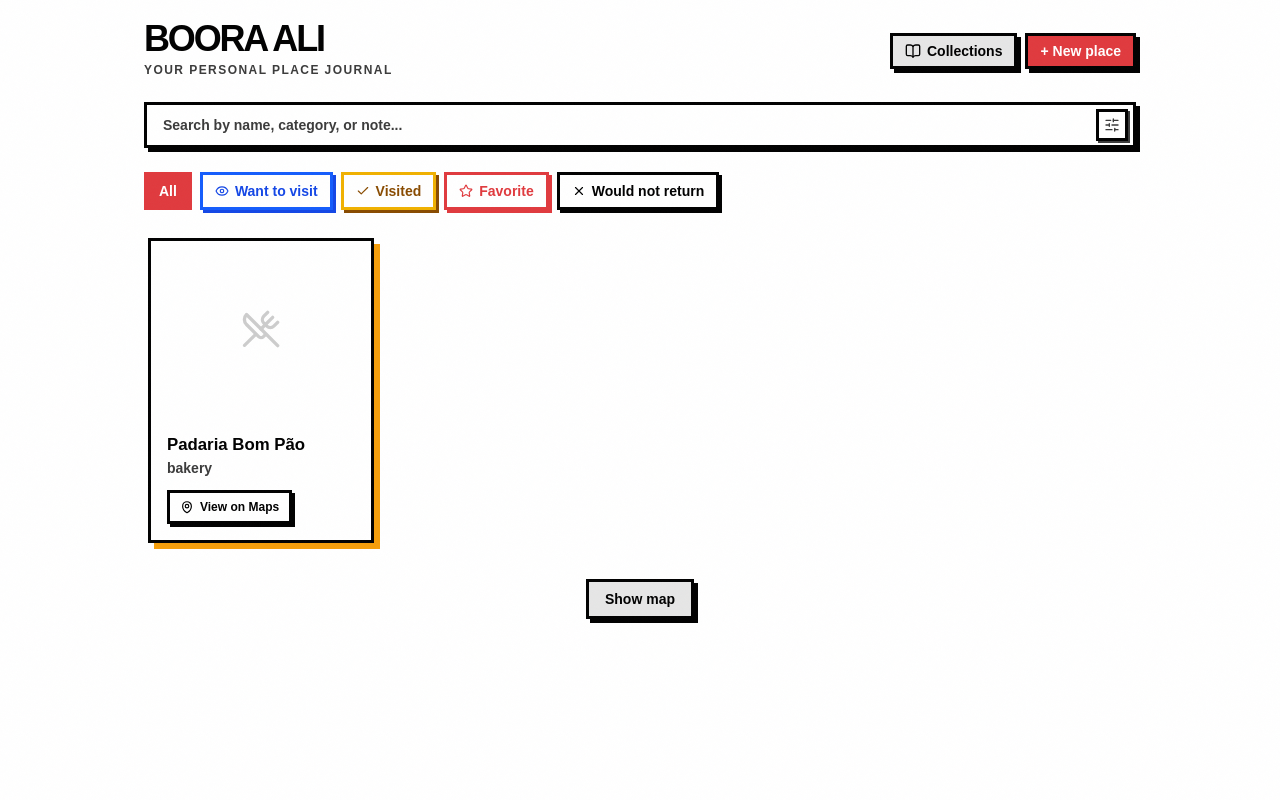
Test case: renders list of places
Expected: the heading "Padaria Bom Pão" is shown, [167, 434, 305, 454]
Click the button "Show map". click: [640, 599]
box: [586, 579, 694, 619]
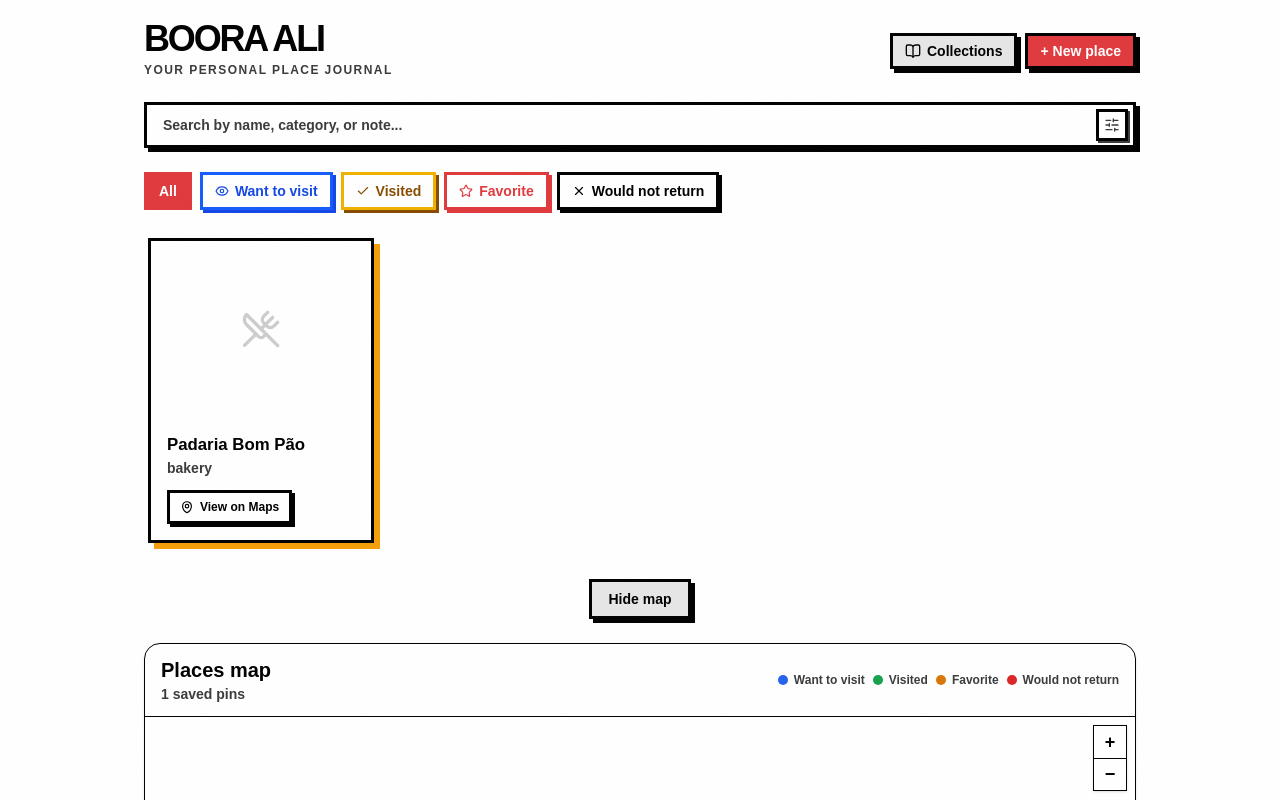
Now the text "1 saved pins" is shown, box [161, 686, 245, 702]
Now the button named "Zoom map in" is shown, box [1094, 726, 1126, 758]
Now the button named "Zoom map out" is shown, box [1094, 758, 1126, 790]
